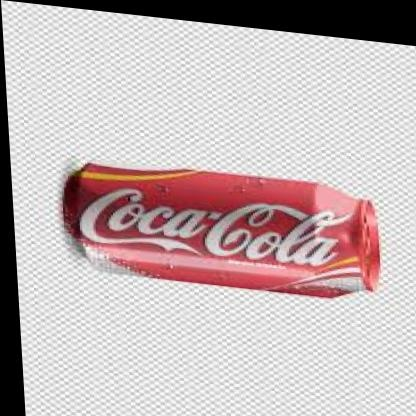trash: (63, 163, 379, 296)
